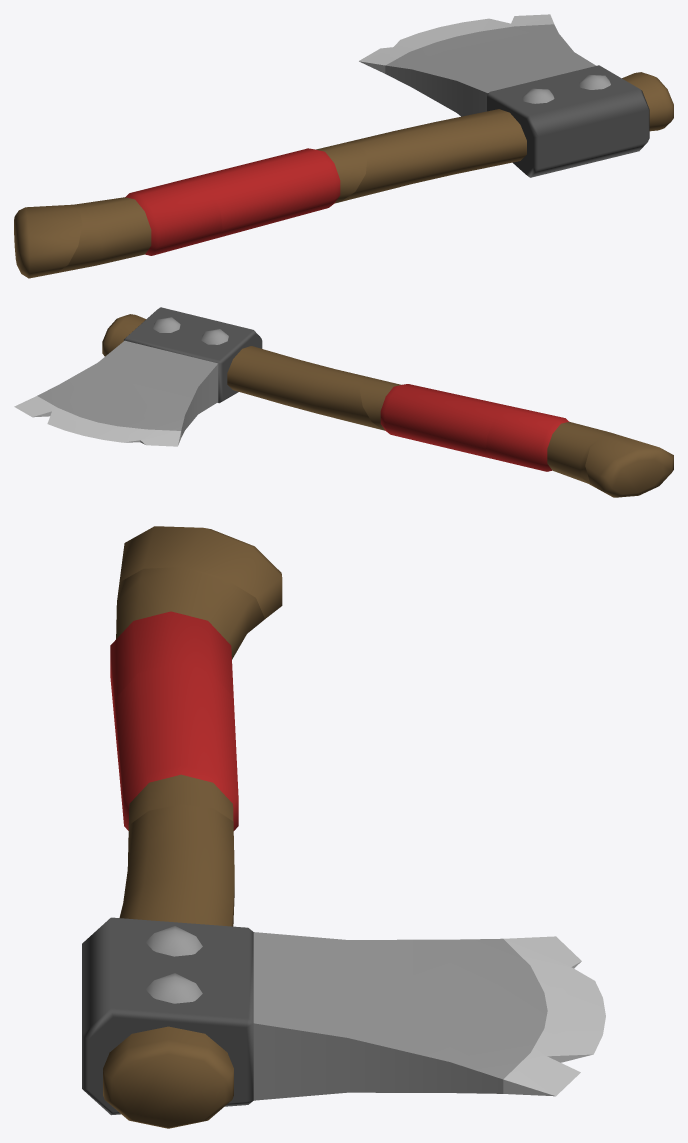
File: Entity_Axe-bkn.FBX
3 views of the same model, one above another, from view 1: azimuth 30°, elevation 25°; view 2: azimuth 150°, elevation 25°; view 3: azimuth 270°, elevation 25° (orthographic). The views are drawn at different scales.
Parts seen in each view (by area): view 1: AxeHead, AxeHandle_Part_2, AxeHandle_Part_3, AxeHandle_Part_1, AxeHandle_Part_4; view 2: AxeHead, AxeHandle_Part_2, AxeHandle_Part_3, AxeHandle_Part_1, AxeHandle_Part_4; view 3: AxeHead, AxeHandle_Part_2, AxeHandle_Part_3, AxeHandle_Part_1, AxeHandle_Part_4.
Boxes of the visible parts, box(x1,y1,x2,y2) form: AxeHead: box(359, 14, 649, 177); AxeHandle_Part_2: box(341, 72, 673, 201); AxeHandle_Part_3: box(190, 142, 367, 238); AxeHandle_Part_1: box(56, 178, 222, 273); AxeHandle_Part_4: box(14, 205, 82, 278); AxeHead: box(14, 307, 262, 446); AxeHandle_Part_2: box(102, 314, 381, 429); AxeHandle_Part_3: box(360, 378, 510, 458); AxeHandle_Part_1: box(486, 406, 618, 489); AxeHandle_Part_4: box(585, 435, 673, 497); AxeHead: box(82, 917, 605, 1115); AxeHandle_Part_2: box(103, 804, 234, 1128); AxeHandle_Part_3: box(115, 663, 238, 830); AxeHandle_Part_1: box(110, 567, 264, 728); AxeHandle_Part_4: box(119, 526, 282, 618).
Size of the model in its own units: 191 by 19.19 by 78.37.
